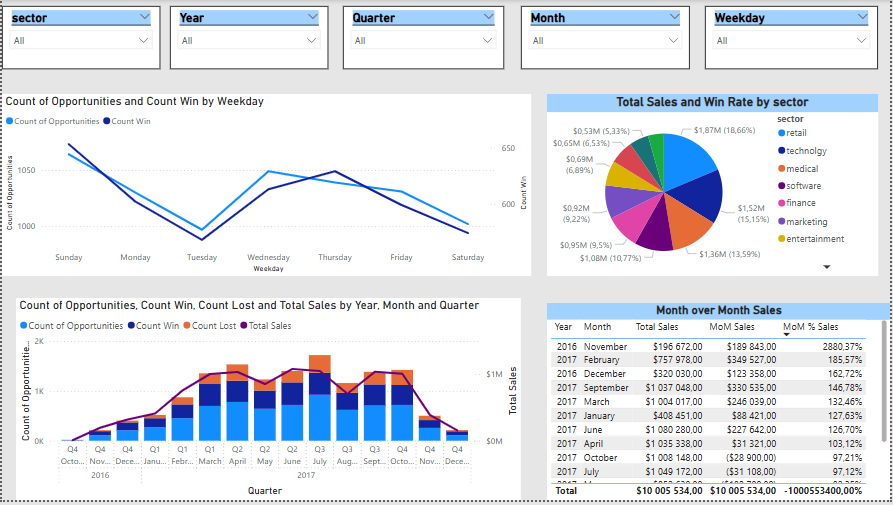

This screenshot's page, from the dashboard's own definition file:
{"tool":"powerbi","page":{"name":"Time Series","canvas":[1280,720],"ordinal":1},"visuals":[{"type":"lineStackedColumnComboChart","fields":{"Category":["Date.Year","Date.Month","Date.Quarter"],"Y":["sales_pipeline.Count of Opportunities","sales_pipeline.Count Win","sales_pipeline.Count Lost"],"Y2":["sales_pipeline.Total Sales"]},"box":[20.2,429.1,727.2,290.9],"z":2001},{"type":"lineChart","fields":{"Category":["Date.Weekday"],"Y":["sales_pipeline.Count of Opportunities"],"Y2":["sales_pipeline.Count Win"]},"box":[0,135.4,761.8,262.1],"z":2003},{"type":"tableEx","title":"Month over Month Sales","fields":{"Values":["Date.Year","Date.Month","sales_pipeline.Total Sales","sales_pipeline.MoM Sales","sales_pipeline.MoM % Sales"]},"box":[784.8,436.3,495.4,283.7],"z":2004},{"type":"slicer","fields":{"Values":["Date.Year"]},"box":[241.9,8.6,227.5,90.7],"z":2006},{"type":"slicer","fields":{"Values":["Date.Quarter"]},"box":[491,8.6,231.8,90.7],"z":2007},{"type":"slicer","fields":{"Values":["Date.Month"]},"box":[747.4,8.6,243.4,90.7],"z":2008},{"type":"slicer","fields":{"Values":["Date.Weekday"]},"box":[1012.3,8.6,249.1,90.7],"z":2009},{"type":"slicer","fields":{"Values":["accounts.sector"]},"box":[0,8.6,227.5,90.7],"z":2010},{"type":"pieChart","fields":{"Category":["accounts.sector"],"Y":["sales_pipeline.Total Sales"]},"box":[784.8,135.4,476.6,262.1],"z":2011}]}

Visuals, with their boxes in screenshot pixels (x1, y1, x2, y2), scaled from the page's 1280x720 canvas onto the 893x505 screenshot:
lineStackedColumnComboChart - Date.Year x Date.Month: box=[14, 301, 521, 504]
lineChart - Date.Weekday x sales_pipeline.Count of Opportunities: box=[0, 95, 531, 279]
"Month over Month Sales" tableEx: box=[548, 306, 892, 504]
slicer - Date.Year: box=[169, 6, 327, 70]
slicer - Date.Quarter: box=[343, 6, 504, 70]
slicer - Date.Month: box=[521, 6, 691, 70]
slicer - Date.Weekday: box=[706, 6, 880, 70]
slicer - accounts.sector: box=[0, 6, 159, 70]
pieChart - accounts.sector x sales_pipeline.Total Sales: box=[548, 95, 880, 279]
